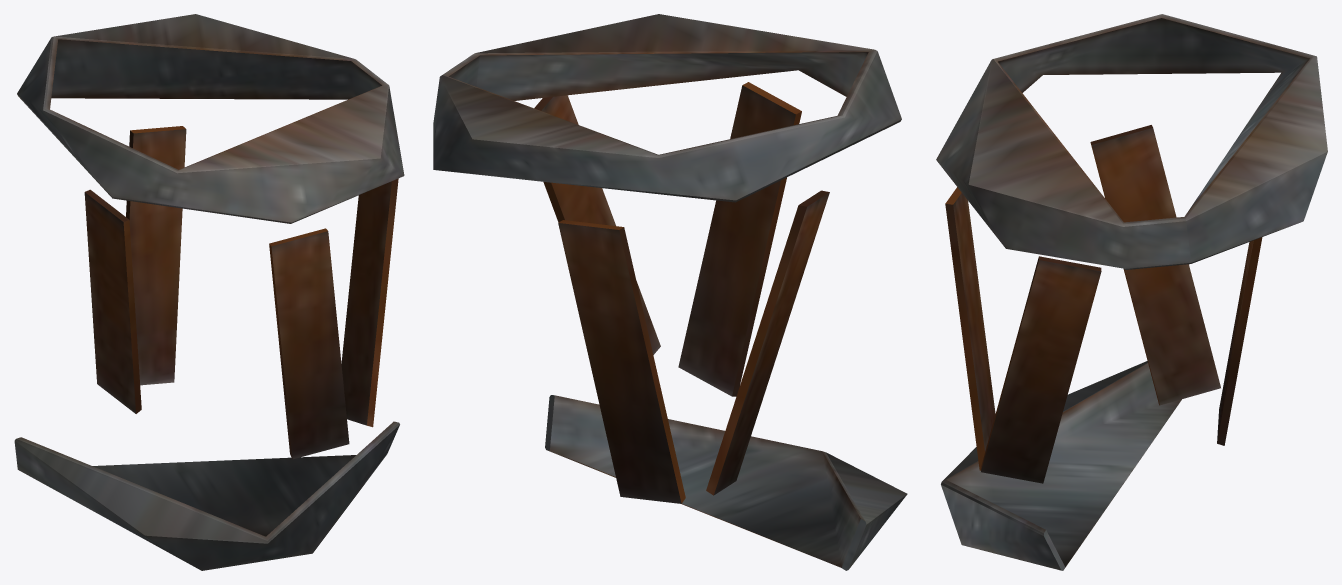
3 renders of one model, left to right at view 1: azimuth 30°, elevation 25°; view 2: azimuth 150°, elevation 25°; view 3: azimuth 270°, elevation 25°, orthographic. The views are drawn at different scales.
Parts seen in each view (by area): view 1: barrelbroken; view 2: barrelbroken; view 3: barrelbroken.
Boxes of the visible parts, left/top/right/bottom form: barrelbroken: left=14, top=14, right=404, bottom=570; barrelbroken: left=433, top=14, right=907, bottom=570; barrelbroken: left=936, top=14, right=1327, bottom=570.
Size of the model in its own units: 0.6816 by 0.7693 by 0.6175.
1 material, 1 textured.
